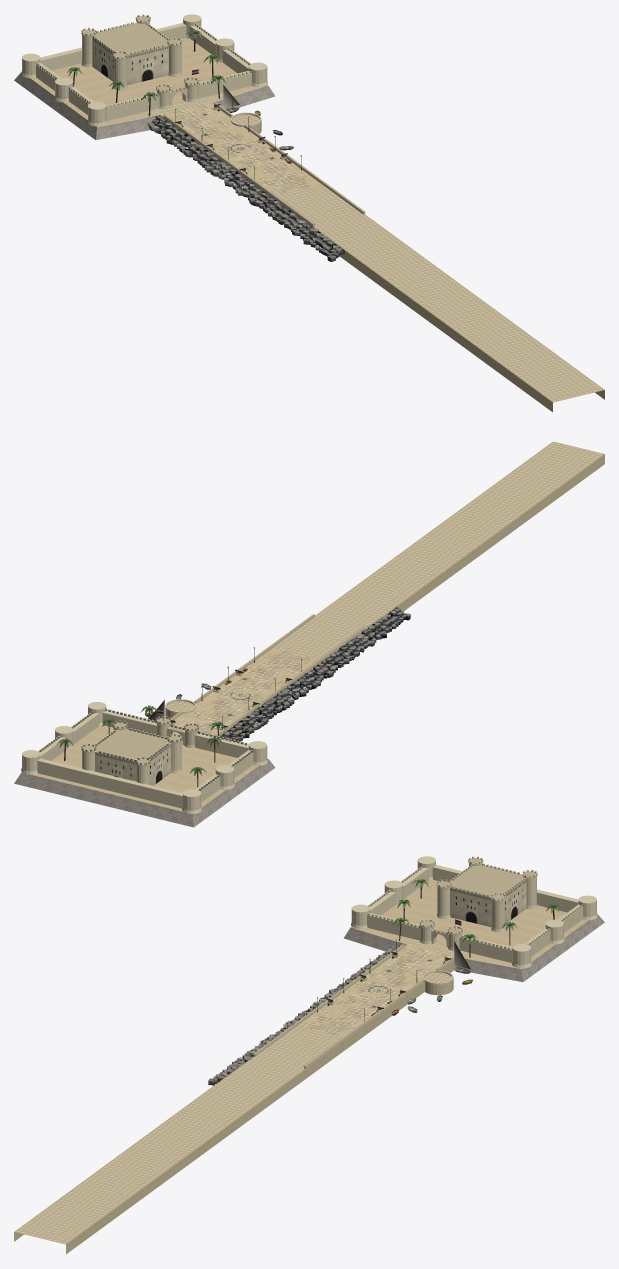
The model's file is lugar-alejandria.glb.
3 renders of one model, top to bottom at view 1: azimuth 30°, elevation 25°; view 2: azimuth 150°, elevation 25°; view 3: azimuth 330°, elevation 25°, orthographic.
Visible parts, largest first — view 1: luzG-cerca, luzS-pista, luzE, vert-cerca; view 2: luzG-cerca, luzS-pista, luzE, vert-cerca; view 3: luzG-cerca, luzS-pista, luzE, vert-cerca.
Part boxes in pixels (x1,y1,x2,y2): luzG-cerca: [30, 38, 604, 402]; luzS-pista: [81, 16, 365, 226]; luzE: [14, 14, 604, 412]; vert-cerca: [36, 14, 344, 261]; luzG-cerca: [22, 441, 604, 813]; luzS-pista: [81, 614, 365, 785]; luzE: [14, 454, 604, 827]; vert-cerca: [38, 607, 410, 790]; luzG-cerca: [14, 880, 588, 1244]; luzS-pista: [253, 858, 537, 1068]; luzE: [14, 856, 604, 1254]; vert-cerca: [208, 856, 582, 1085].
Size of what is drawn, in the model's own units: 69.3 by 15.92 by 317.
Materials: 13 (10 with a texture image).
